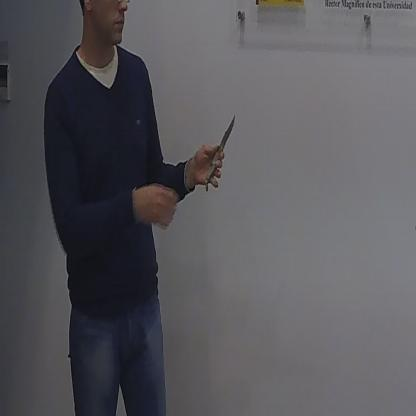knife: (203, 108, 237, 194)
